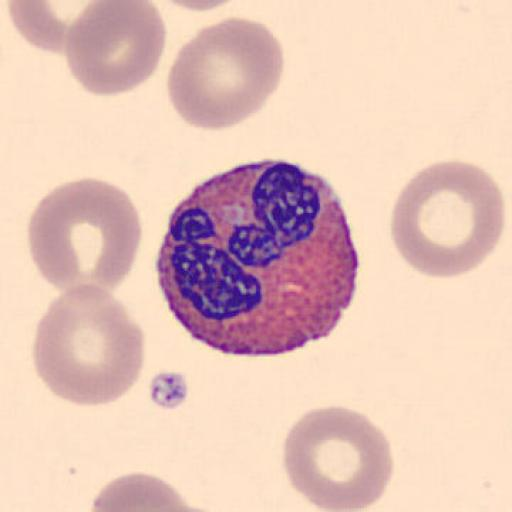Platelet: (146, 366, 194, 413)
RBC: (30, 282, 146, 409), (389, 158, 507, 281), (26, 176, 144, 297), (165, 15, 286, 132), (281, 403, 395, 512), (62, 0, 167, 97), (6, 0, 140, 54), (87, 469, 226, 512), (150, 0, 244, 13)
WBC: (155, 157, 361, 358)
